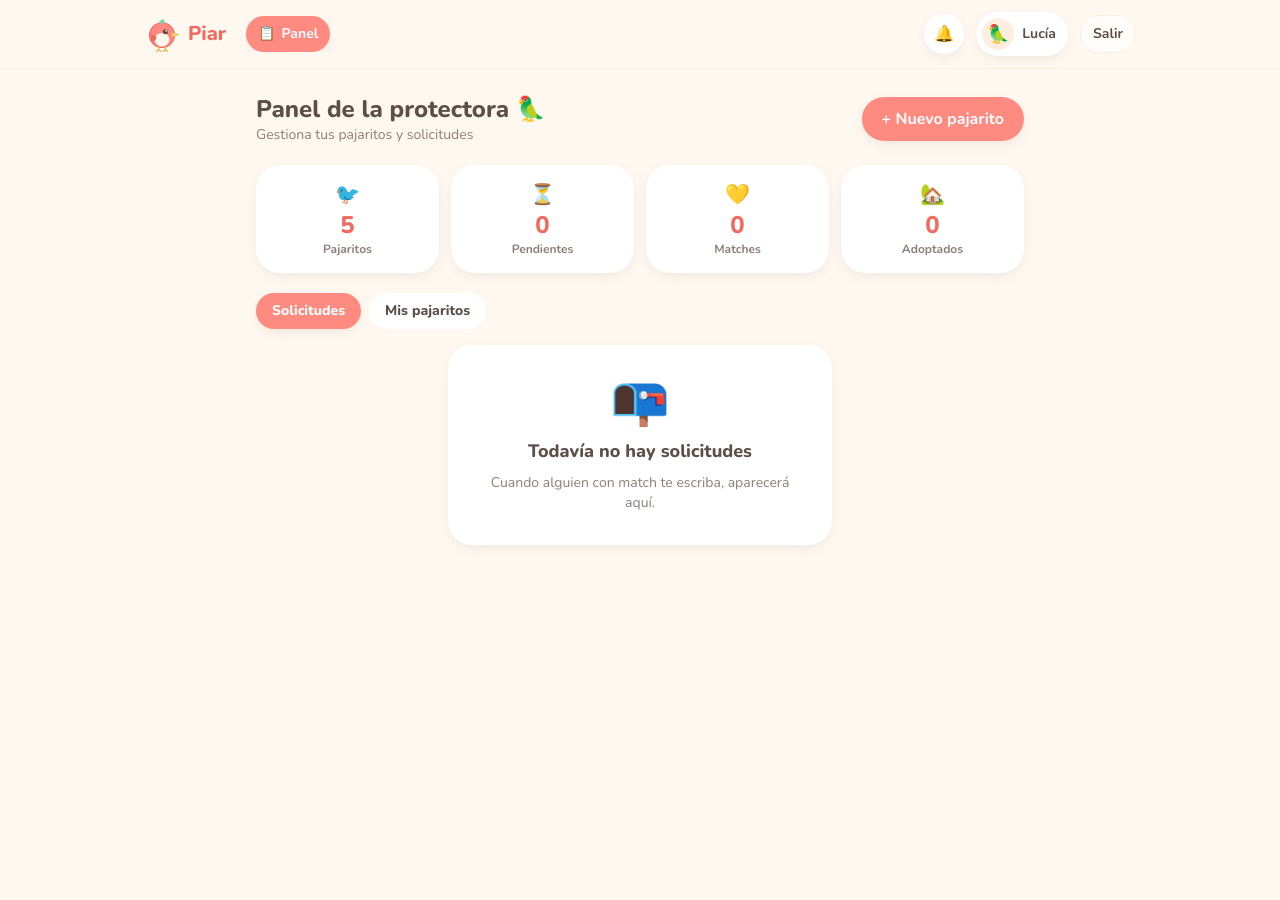
Test: panel de la protectora › muestra los likes de cada pajarito en «Mis pajaritos»
This screenshot has width=1280, height=900.
Click the button "Mis pajaritos".
click(428, 311)  # box [369,293,486,329]
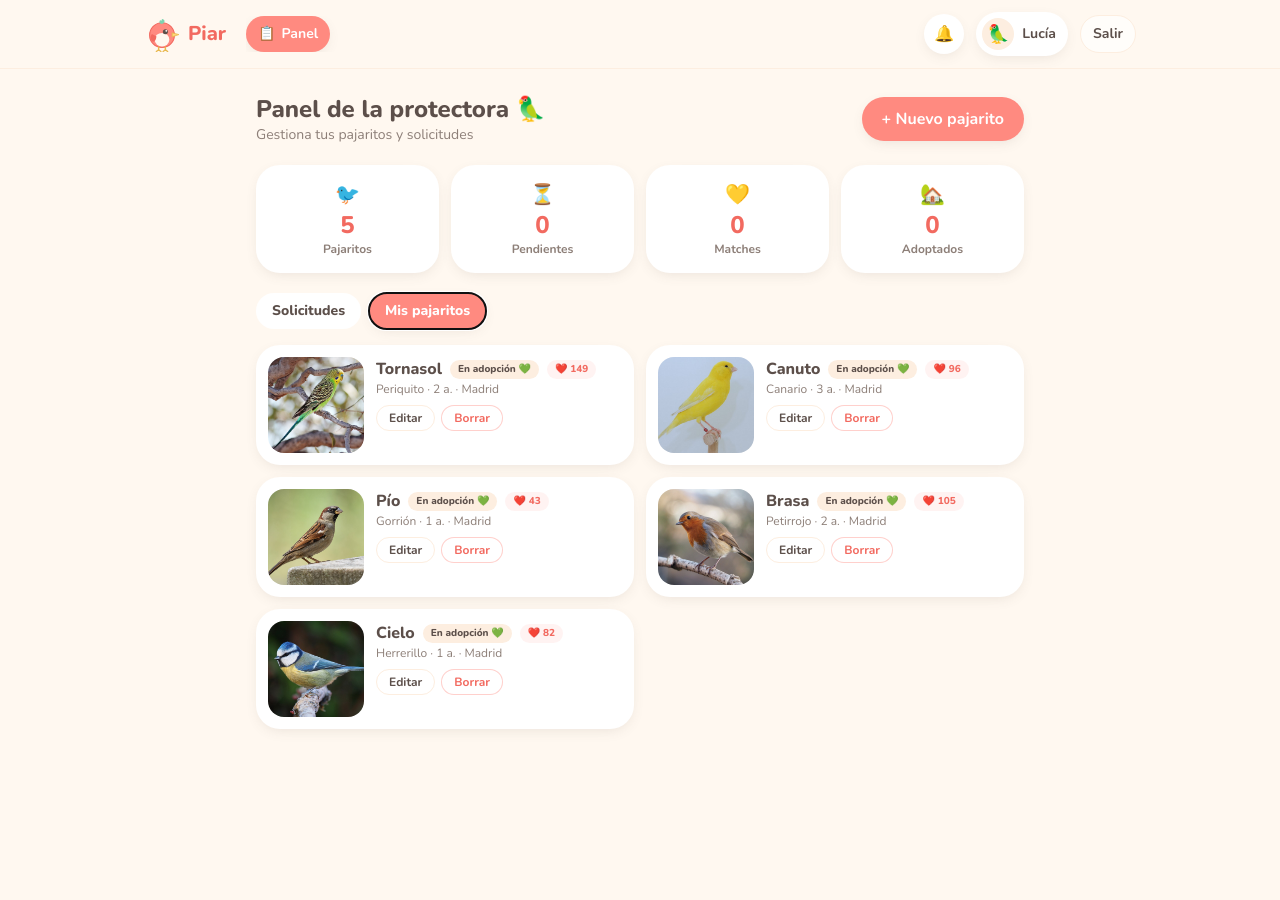
Expected: the text "❤️ 149" is shown, [547,360,596,378]
Expected: the text "❤️ 96" is shown, [925,360,969,378]
